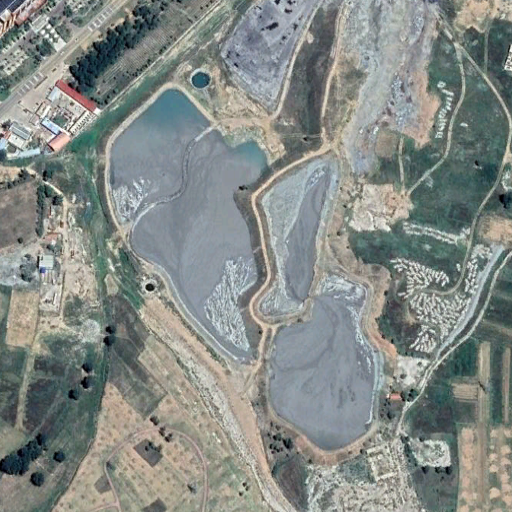tp: (101, 85, 389, 457)
